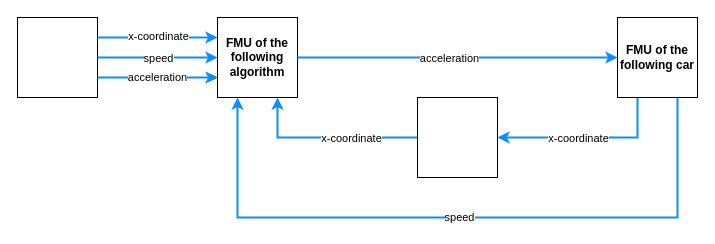
This 715x244 diagram has some shape labels left out. The shapes that lost their labels are listed below. From the top down, each one's box as (x1, y1, x2, y2) in pixels, then its label:
(16, 16, 98, 98): FMU of the leading car
(416, 96, 498, 178): FMU of the attack
